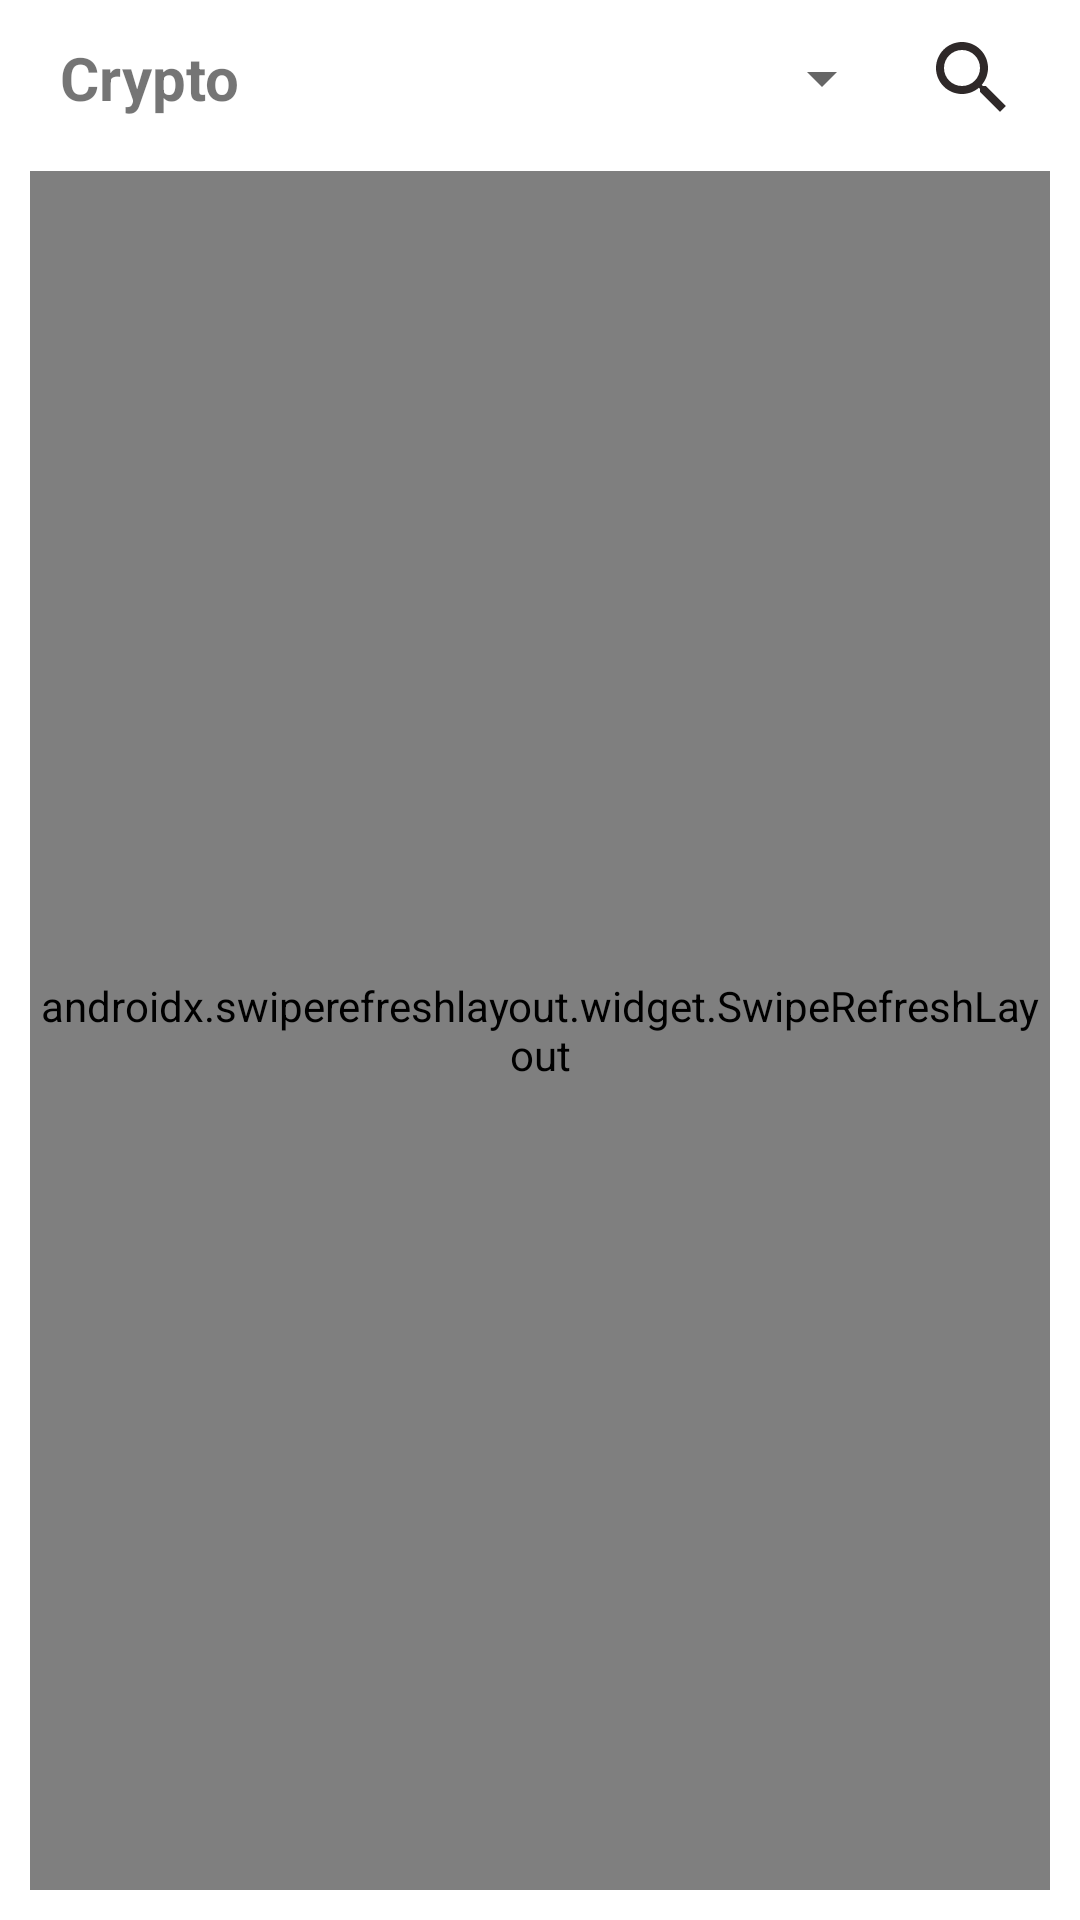

Icons on this 1080px x 1920px Android screen, each with its box as rect(x1, y1, x2, y2):
search coins: rect(936, 42, 1006, 112)
